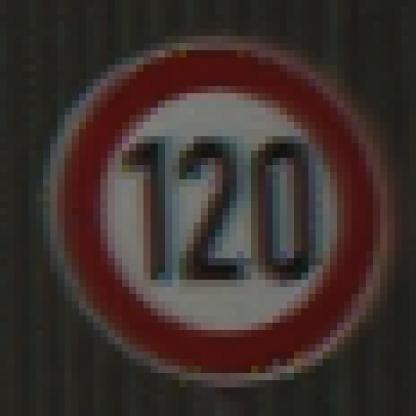Speed Limit 120: (53, 40, 385, 381)
